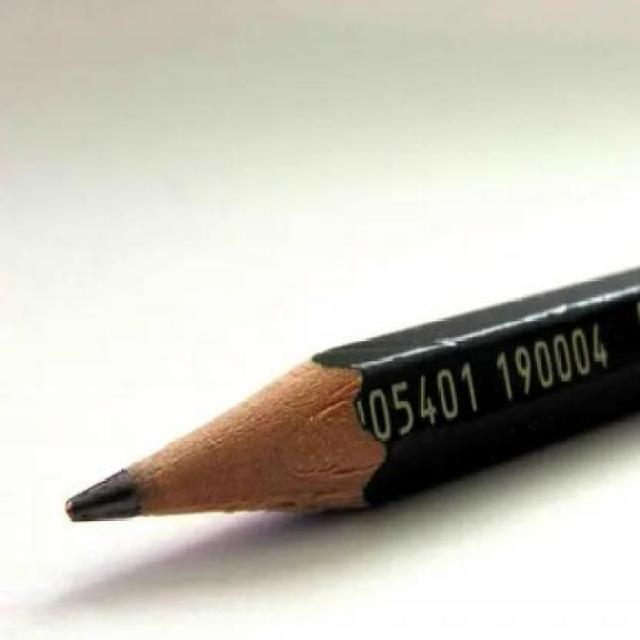pencil: (49, 257, 640, 540)
